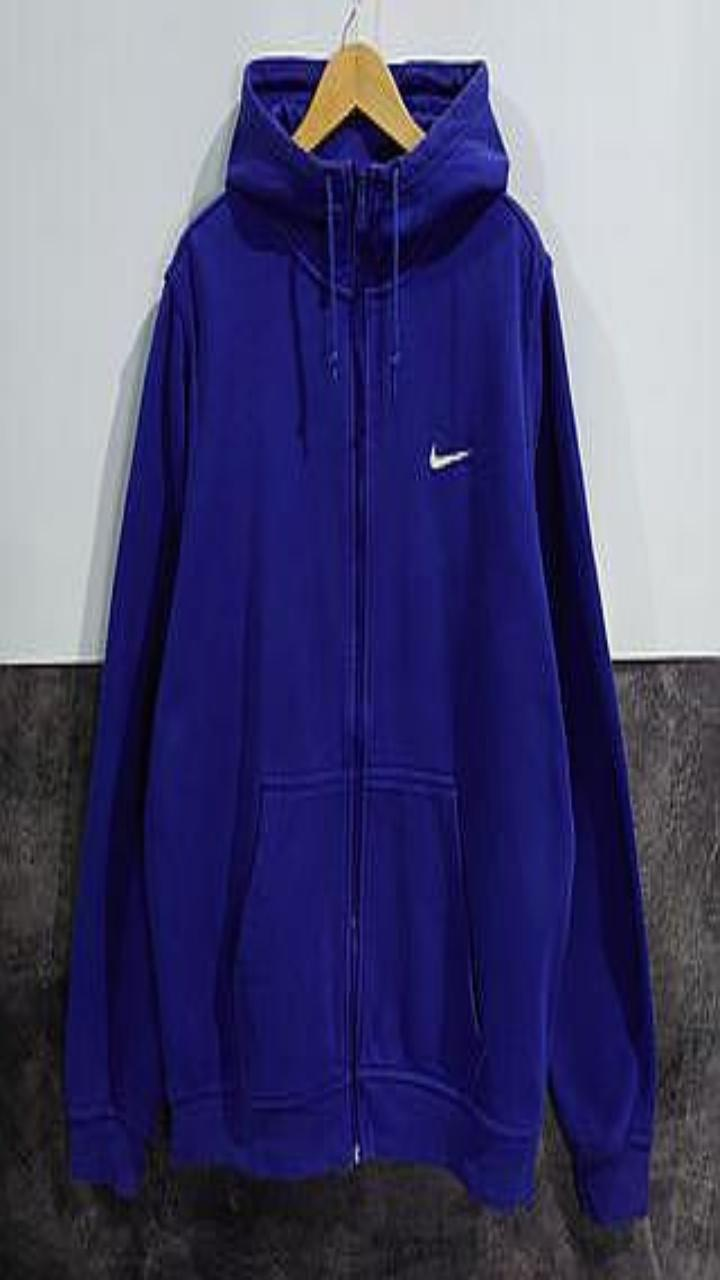Hoodie: (65, 56, 655, 1223)
